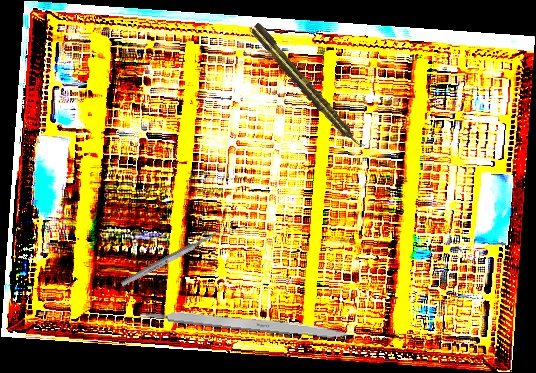Handpiece: (248, 21, 367, 154)
Scalpel Handle: (139, 304, 353, 342)
Surgical Spoon: (119, 226, 227, 288)
